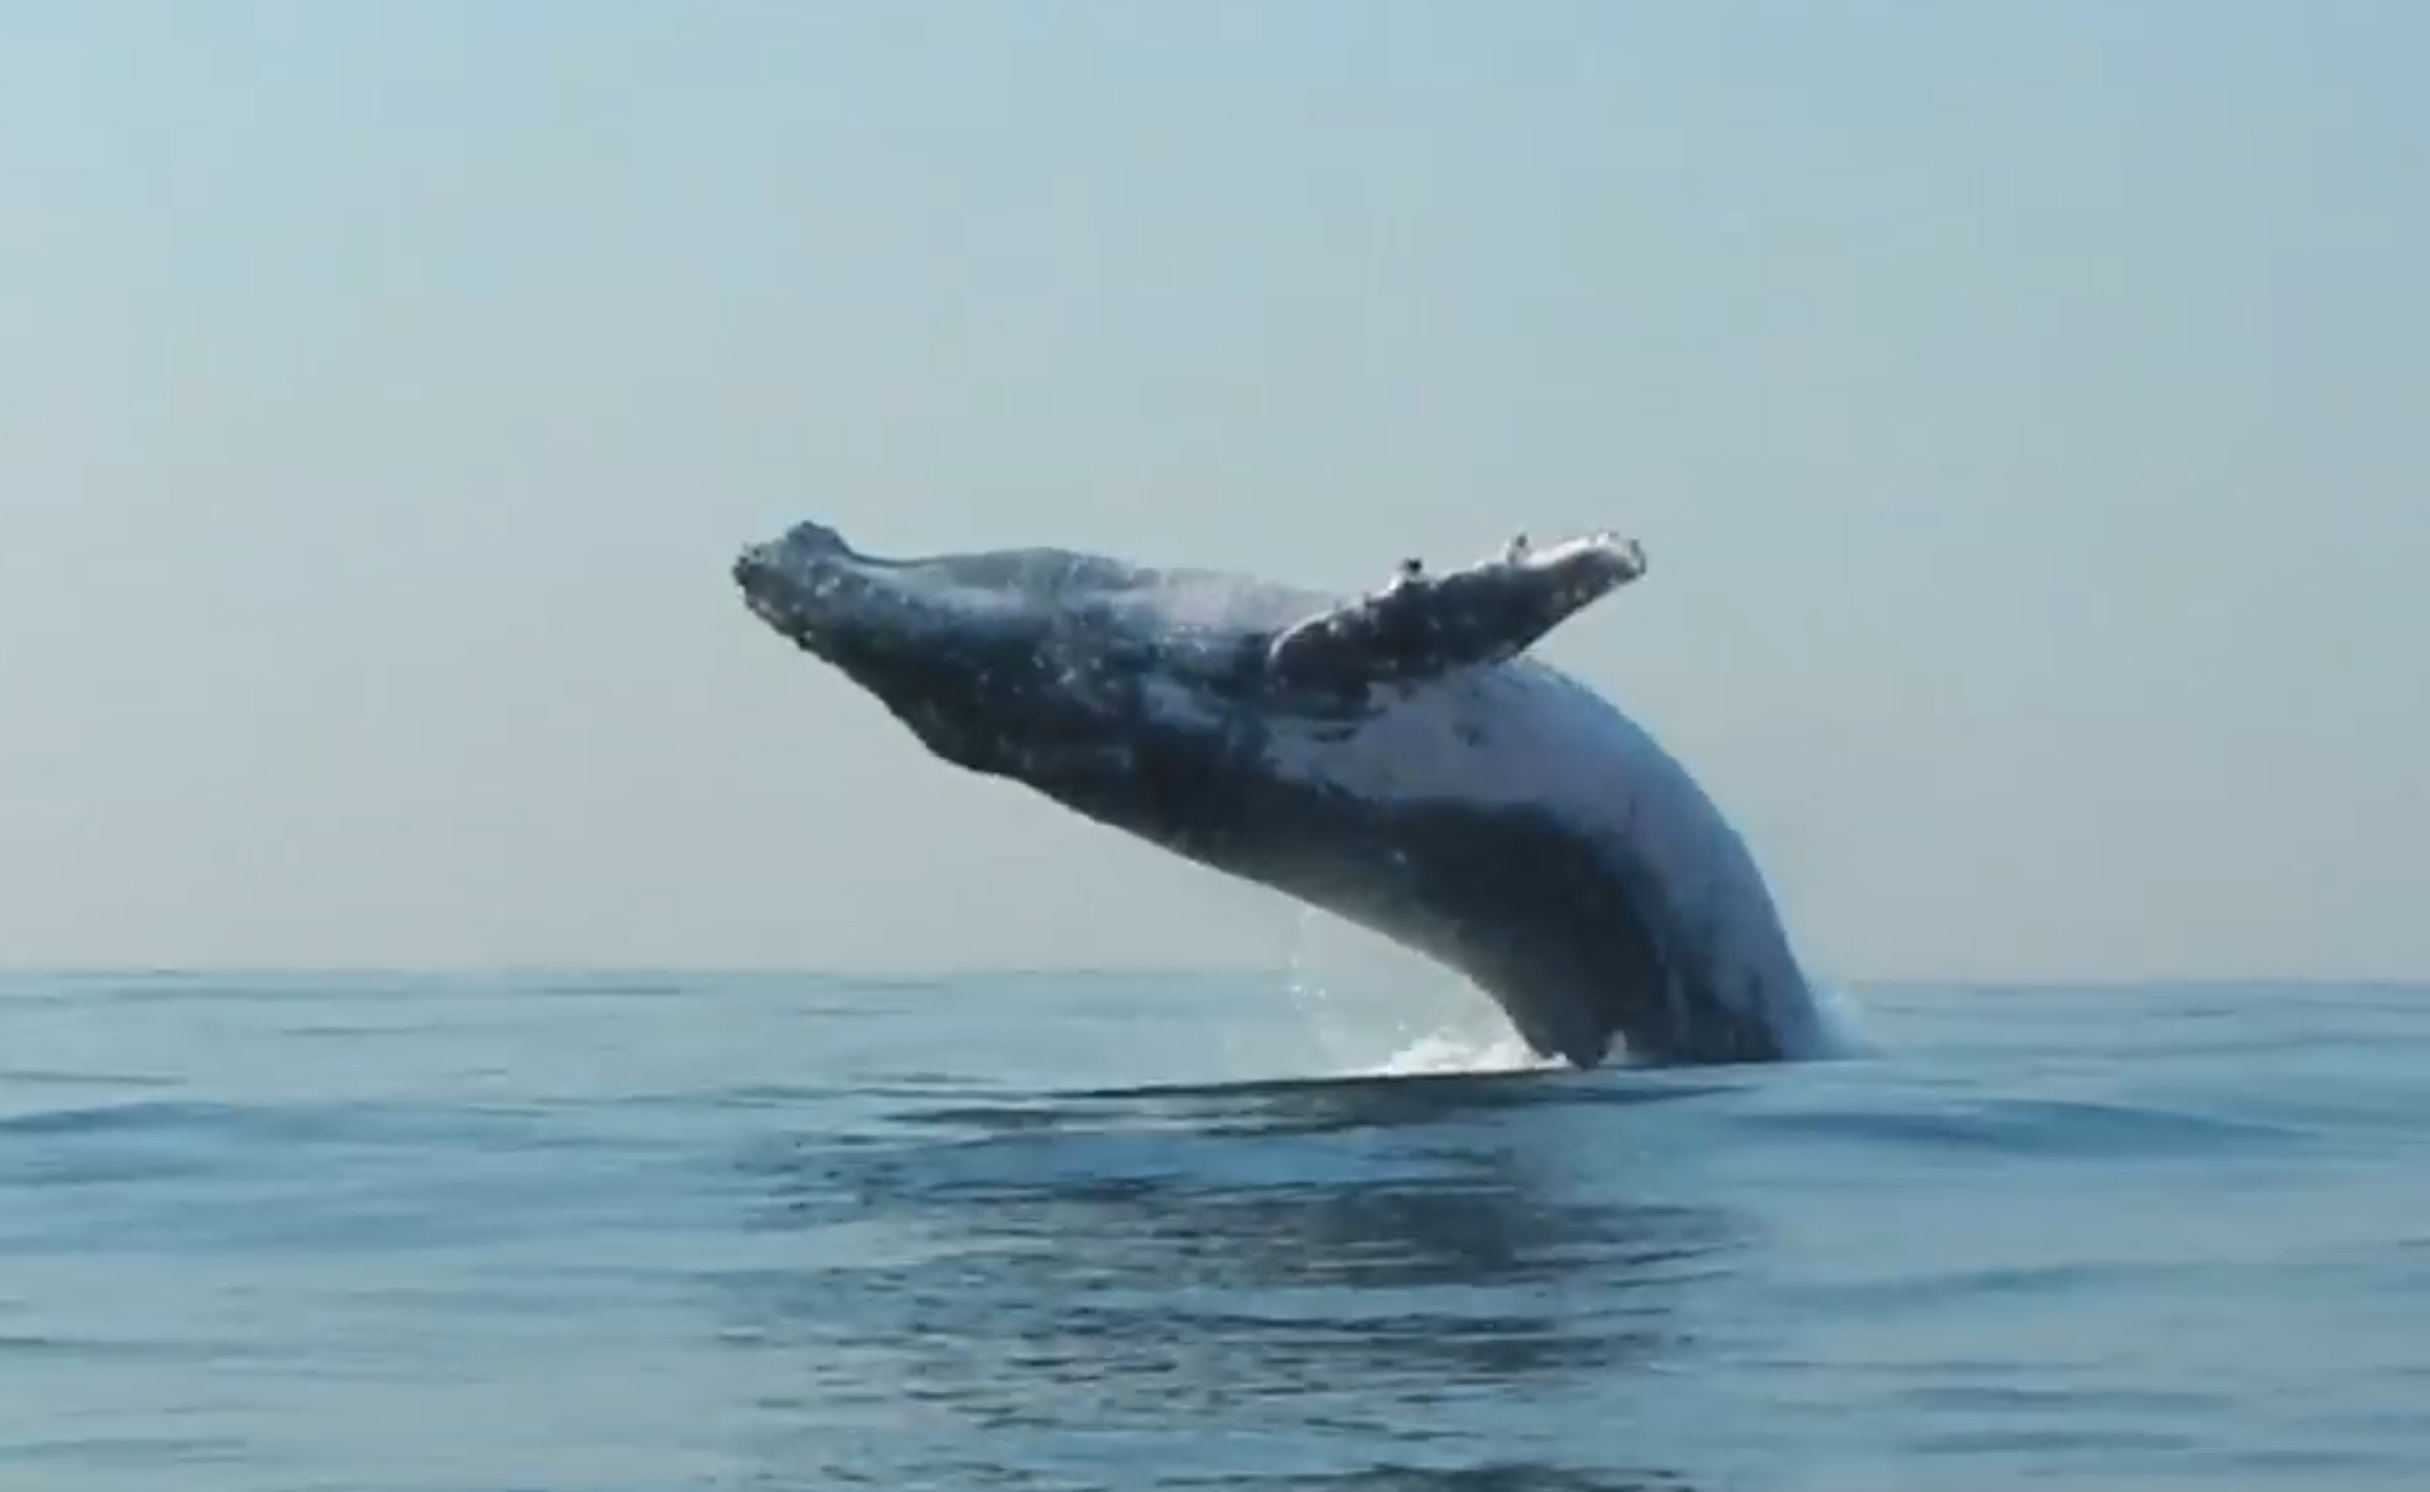humpback: (720, 498, 1847, 1062)
